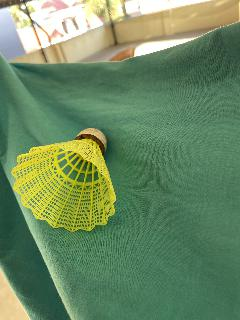shuttlecock: (11, 128, 115, 232)
